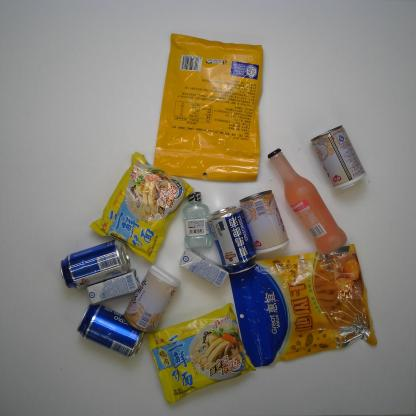Alcohol: (266, 146, 349, 257), (57, 237, 133, 292), (74, 302, 146, 360), (207, 204, 258, 276)
Canned Food: (122, 261, 182, 335), (309, 121, 370, 192), (236, 189, 292, 257)
Dried Fruit: (224, 242, 382, 370), (152, 28, 266, 188)
Instant Noodles: (86, 150, 197, 268), (141, 300, 260, 408)
Milk: (84, 268, 143, 306), (178, 247, 231, 289)
Personal Hygiene: (180, 190, 214, 251)
